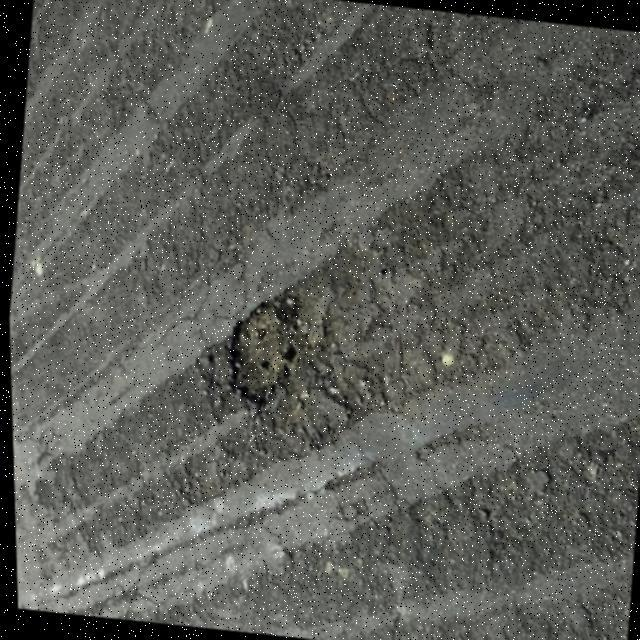pothole: (210, 284, 316, 418)
